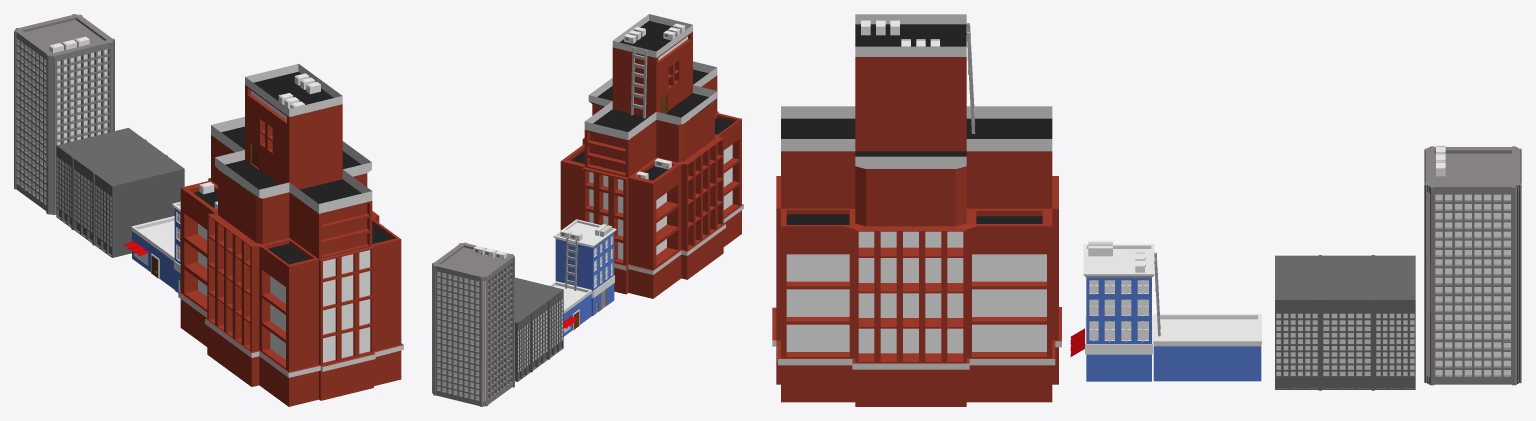
Rendered from batiment2035.fbx.
3 renders of one model, left to right at view 1: azimuth 30°, elevation 25°; view 2: azimuth 150°, elevation 25°; view 3: azimuth 270°, elevation 25°, orthographic. The views are drawn at different scales.
Parts seen in each view (by area): view 1: building4, building001, building002, buildin004, building003; view 2: building4, building001, building002, building003, buildin004, Plane.001, Plane.004; view 3: building4, building001, building002, building003, buildin004.
Part boxes in pixels (x1=…): building4: x1=178, y1=63, x2=403, y2=406; building001: x1=14, y1=14, x2=114, y2=214; building002: x1=56, y1=128, x2=184, y2=257; buildin004: x1=131, y1=216, x2=174, y2=289; building003: x1=172, y1=201, x2=180, y2=292; building4: x1=560, y1=14, x2=743, y2=298; building001: x1=432, y1=242, x2=514, y2=406; building002: x1=515, y1=277, x2=563, y2=381; building003: x1=553, y1=219, x2=616, y2=315; buildin004: x1=549, y1=281, x2=591, y2=336; Plane.001: x1=630, y1=47, x2=647, y2=118; Plane.004: x1=565, y1=237, x2=577, y2=290; building4: x1=772, y1=14, x2=1061, y2=406; building001: x1=1424, y1=146, x2=1521, y2=385; building002: x1=1275, y1=255, x2=1415, y2=390; building003: x1=1083, y1=244, x2=1154, y2=381; buildin004: x1=1153, y1=314, x2=1261, y2=381.
Size of the model in its own units: 15309 by 30434 by 60814.
